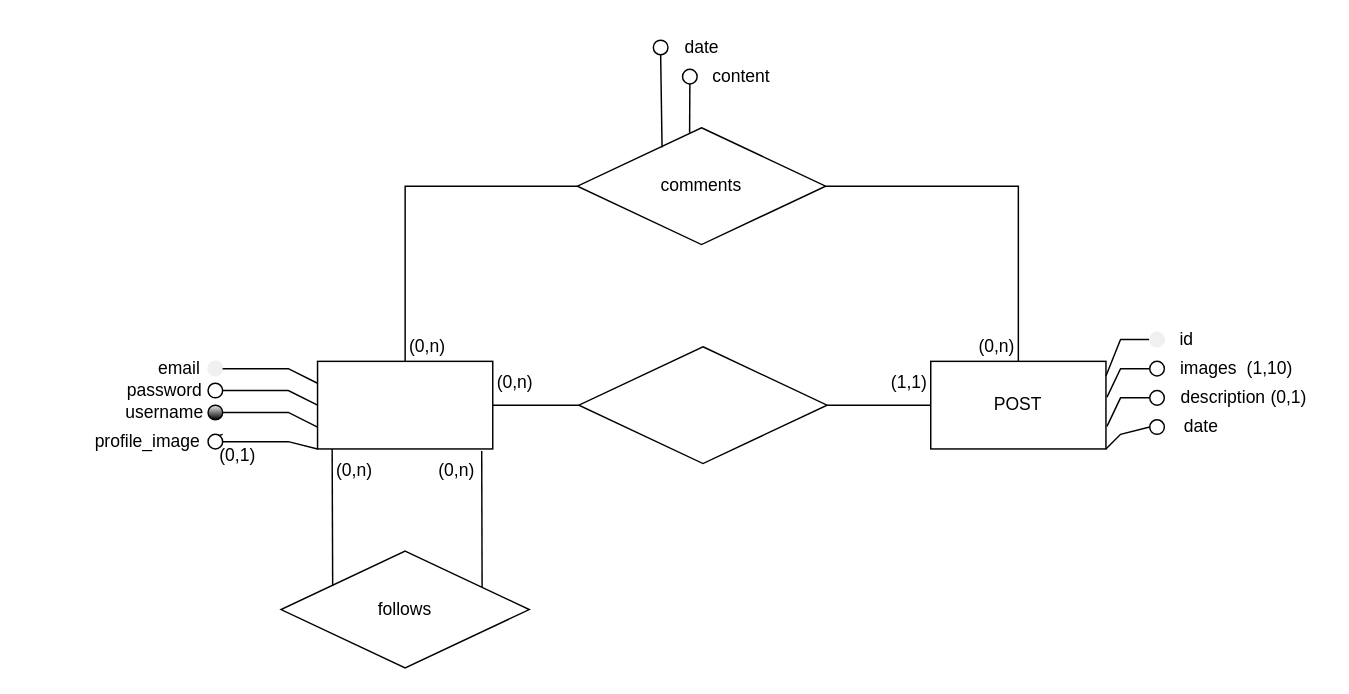
The diagram is 1349 pixels wide and 694 high, and some of its shapes have lost their labels. Each missing label, with the centre of its shape:
"creates" belongs at pixel 702 404.
"USER" belongs at pixel 404 404.
